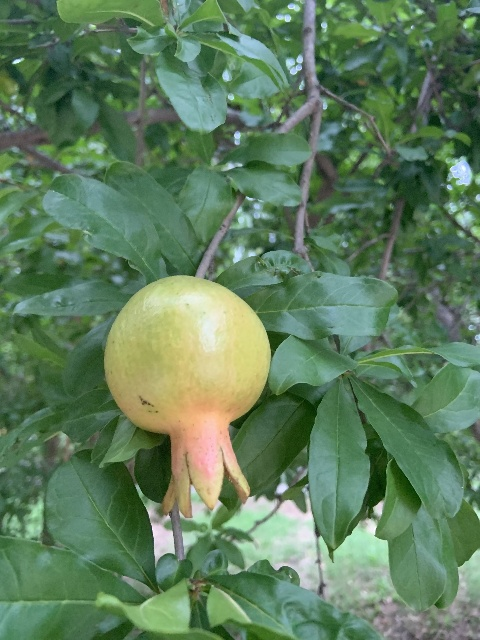mid-growth: (102, 274, 271, 517)
